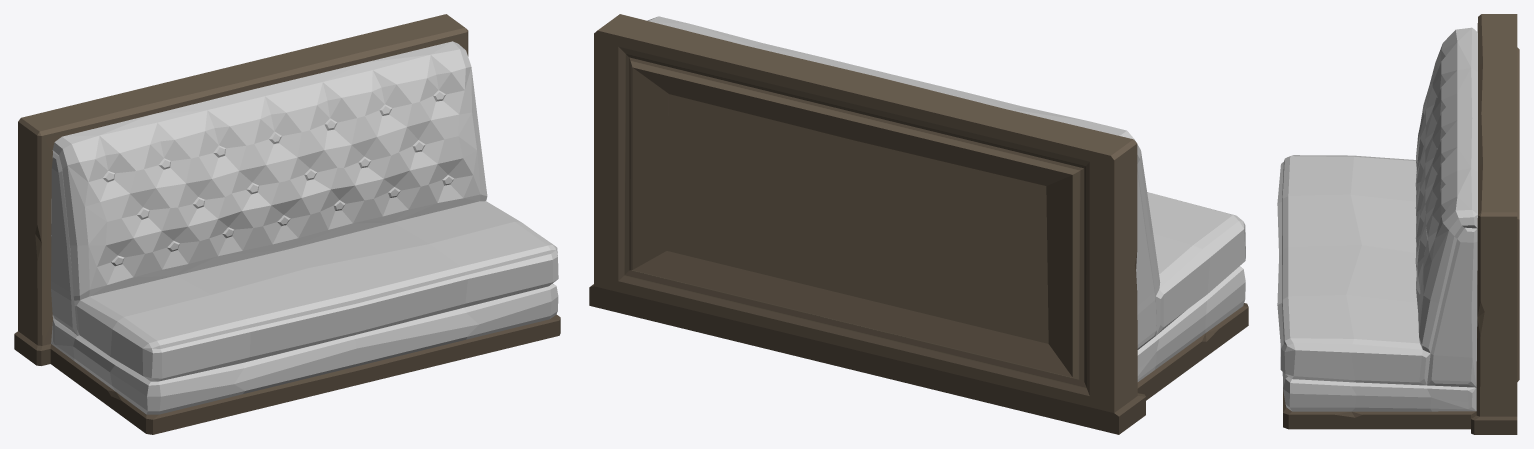
The model's file is Prop_Sofa_01.fbx.
3 views of the same model, side by side, from view 1: azimuth 30°, elevation 25°; view 2: azimuth 150°, elevation 25°; view 3: azimuth 270°, elevation 25° (orthographic). The views are drawn at different scales.
Parts seen in each view (by area): view 1: SM_Prop_Sofa_01; view 2: SM_Prop_Sofa_01; view 3: SM_Prop_Sofa_01.
Part boxes in pixels (left/top/right/bottom): SM_Prop_Sofa_01: left=14, top=14, right=560, bottom=434; SM_Prop_Sofa_01: left=589, top=14, right=1248, bottom=434; SM_Prop_Sofa_01: left=1277, top=14, right=1519, bottom=434.
Bounding box in the file's own units: 200 × 100 × 100.
